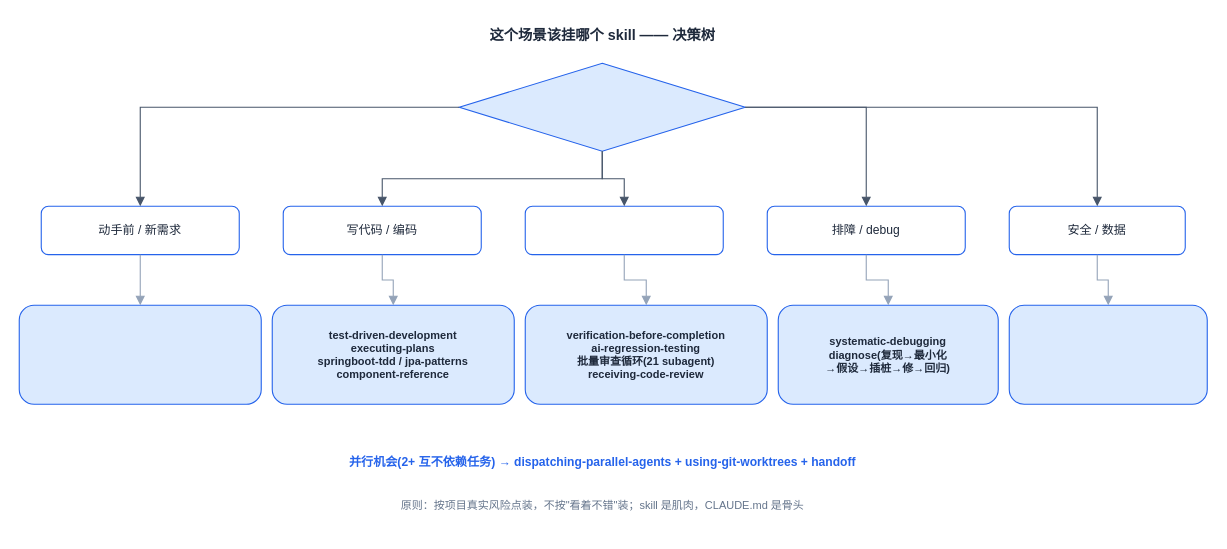
The diagram is 1227 pixels wide and 549 high, and some of its shapes have lost their labels. The box of each missing label's shape, as (x1, y1, x2, y2) in pixels:
brainstorming to-prd / product-capability ubiquitous-language grill-me: (18, 304, 261, 404)
security-review git-guardrails CLAUDE.md 硬约束 (DELETE 三必查): (1008, 304, 1207, 404)
声称完成 / 评审: (524, 205, 723, 255)
现在要干的事属于哪一类？: (458, 62, 745, 151)
